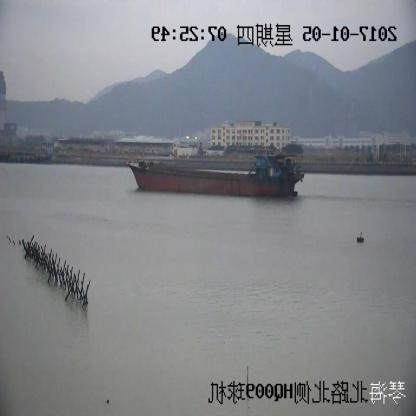Bulk Carrier: (127, 155, 305, 199)
